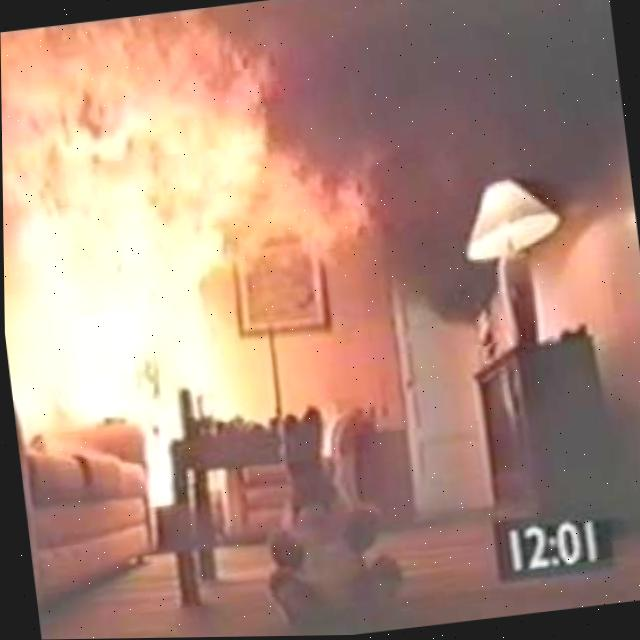fire: (0, 12, 399, 505)
smoke: (236, 0, 640, 516)
